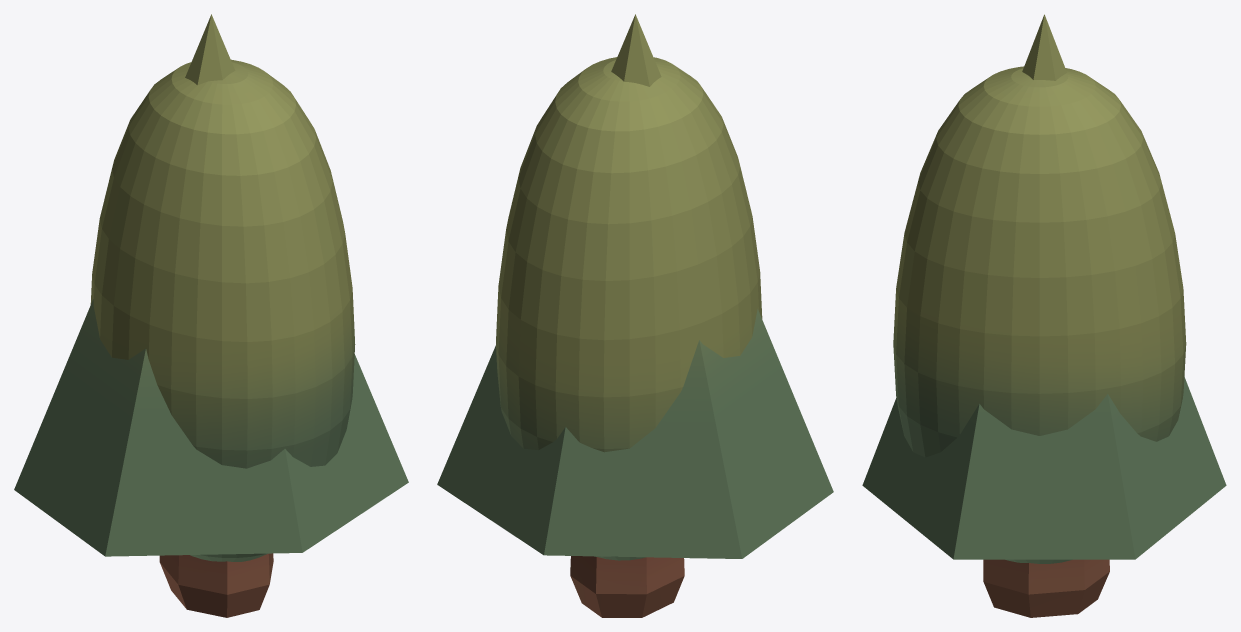
The model's file is Tree.fbx.
3 renders of one model, left to right at view 1: azimuth 30°, elevation 25°; view 2: azimuth 150°, elevation 25°; view 3: azimuth 270°, elevation 25°, orthographic.
Visible parts, largest first — view 1: BushV1, BushV2, down; view 2: BushV1, BushV2, down; view 3: BushV1, BushV2, down.
Boxes of the visible parts, left/top/right/bottom form: BushV1: left=90, top=59, right=355, bottom=561; BushV2: left=14, top=14, right=408, bottom=556; down: left=159, top=553, right=273, bottom=617; BushV1: left=496, top=57, right=762, bottom=560; BushV2: left=437, top=14, right=833, bottom=558; down: left=570, top=556, right=684, bottom=617; BushV1: left=893, top=66, right=1186, bottom=563; BushV2: left=862, top=14, right=1226, bottom=559; down: left=983, top=559, right=1109, bottom=617.
Size of the model in its own units: 116 by 213 by 121.
